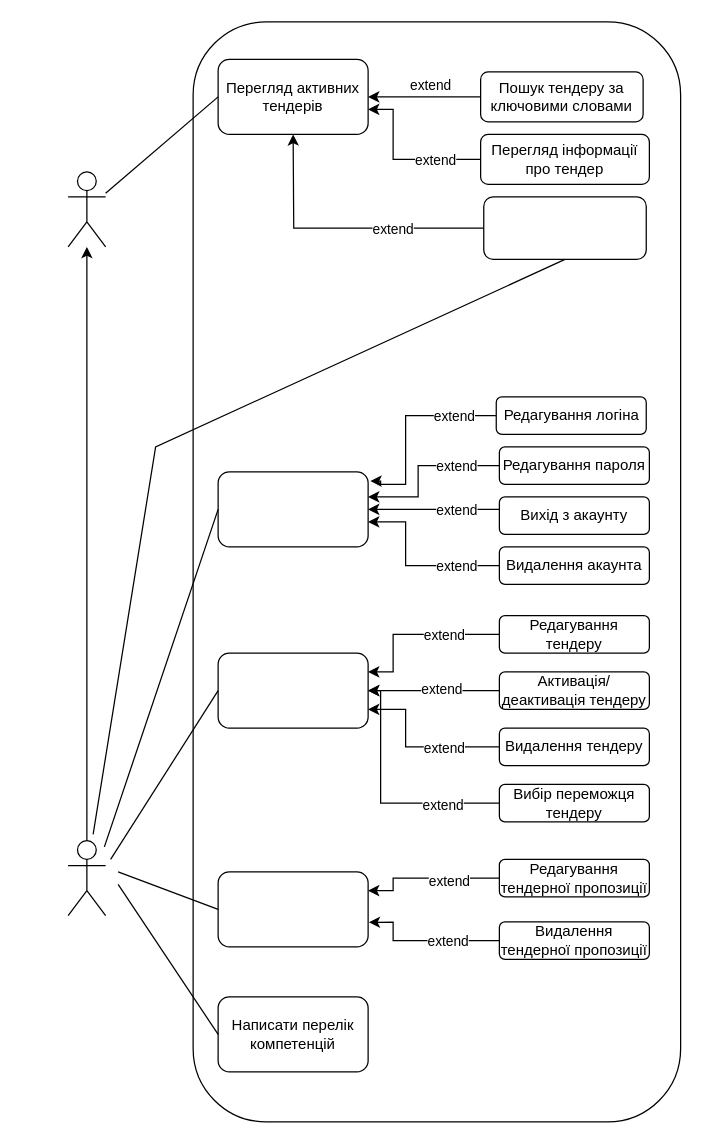
Image size: 703x1144. Some labels were removed from this diagram. Here are the shapes that lost their labels. From the top down, the box of each, then its label:
(67, 171, 106, 247): Незареєстрований користувач (гість)
(482, 196, 646, 259): Пошук власного тендеру за ключовими словами
(217, 471, 368, 547): Редагування акаунту
(217, 652, 368, 728): Створення тендеру
(67, 839, 106, 916): Зареєстрований користувач
(217, 871, 368, 947): Створення тендерної пропозиції
